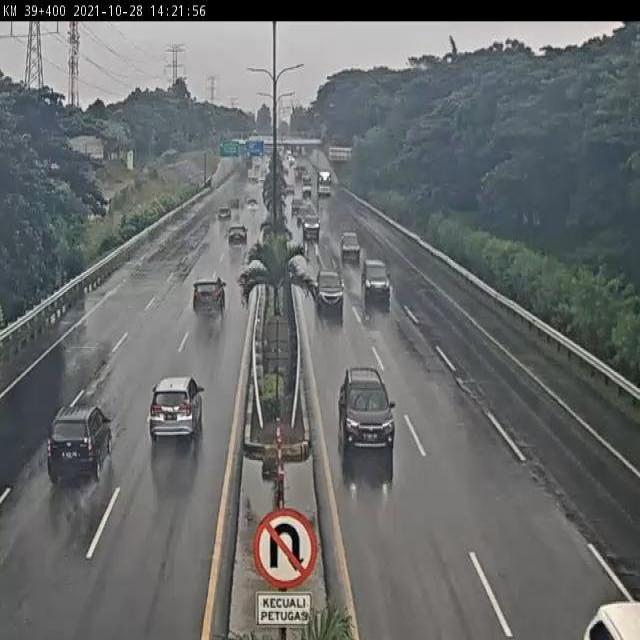car: (46, 404, 114, 484), (339, 366, 398, 446), (150, 374, 205, 442), (311, 269, 346, 315), (191, 274, 226, 318), (360, 256, 392, 297), (339, 231, 364, 261), (227, 225, 248, 248)
